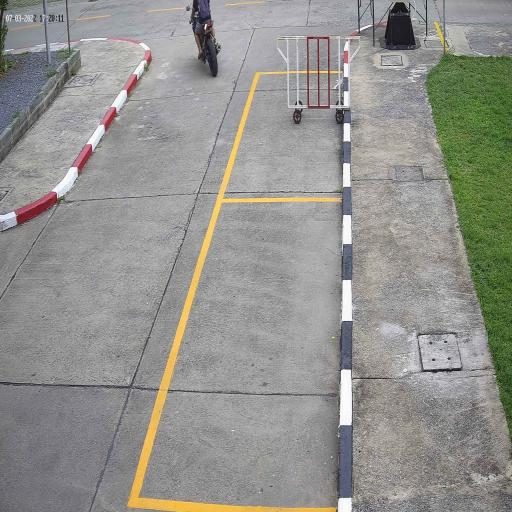motorcycle: (190, 11, 220, 78)
